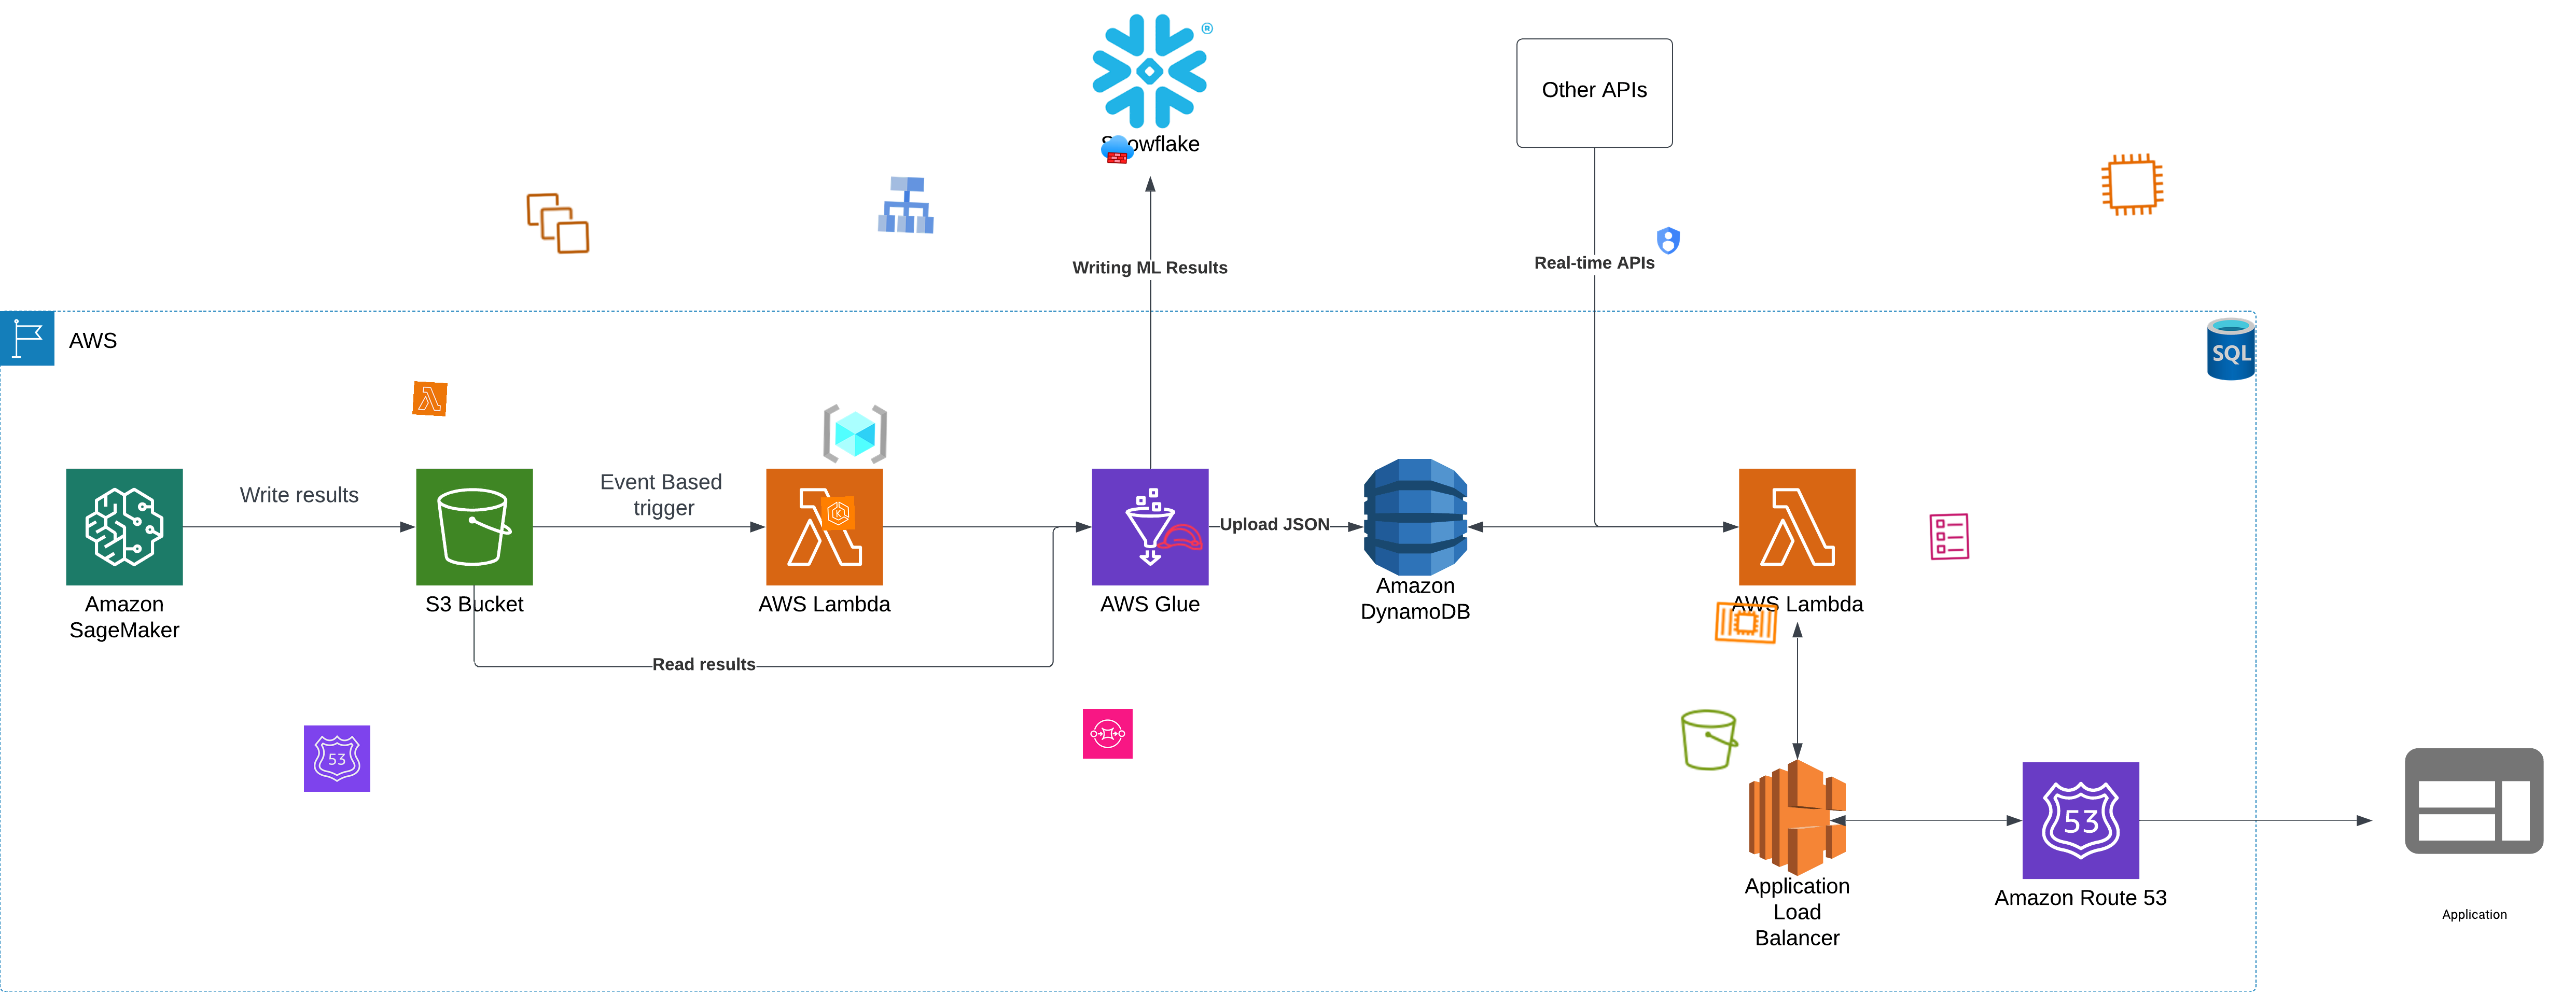aws_amazon_elastic_kubernetes_service: (820, 496, 856, 530)
aws_amazon_route_53: (304, 724, 371, 792)
aws_amazon_simple_queue_service: (1083, 708, 1134, 759)
aws_cloudformation_template: (1924, 511, 1975, 563)
aws_ec2_instance: (2098, 149, 2167, 220)
aws_ec2_instances: (524, 189, 593, 258)
aws_elastic_container_service_container_2: (1710, 588, 1781, 659)
aws_identity_access_management_role: (1153, 511, 1207, 565)
aws_lambda: (412, 381, 447, 417)
aws_simple_storage_service_bucket: (1674, 705, 1745, 775)
azure_firewalls: (1101, 131, 1135, 168)
azure_resource_groups: (821, 399, 889, 468)
azure_sql_database: (2198, 315, 2265, 383)
gcp_cloud_load_balancing: (872, 171, 941, 240)
gcp_identity_and_access_management: (1651, 223, 1686, 258)
